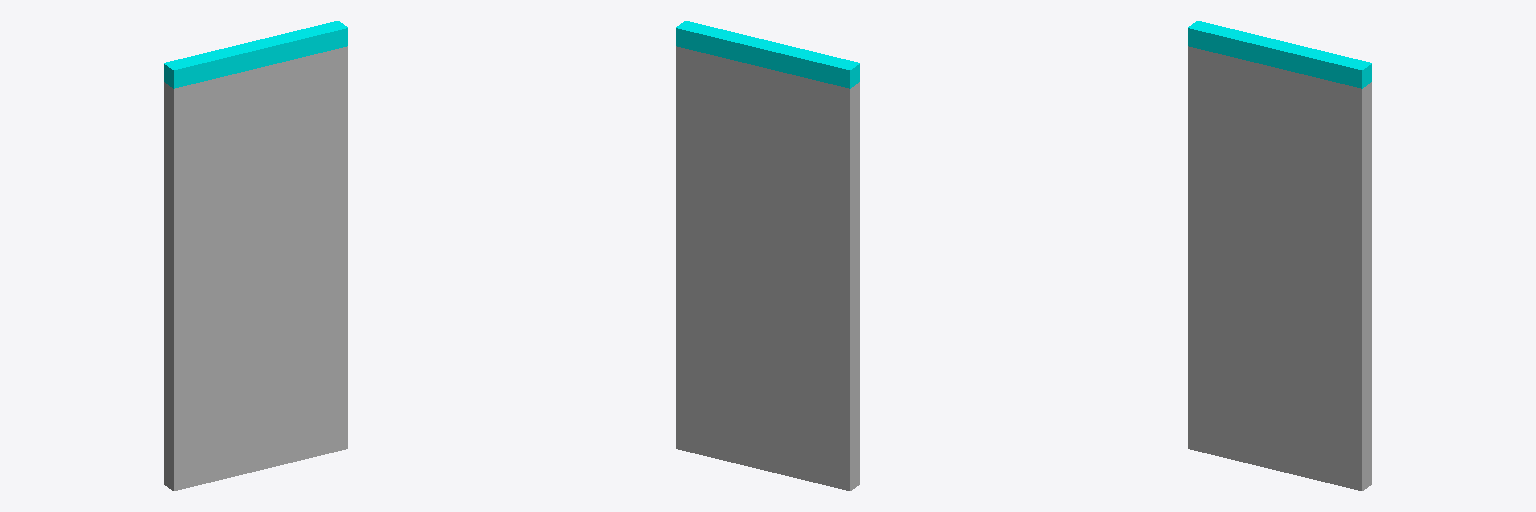
URDF robot description (spatula-base.urdf):
<?xml version="0.0" ?>
<robot name="spatula-base.urdf">
  <material name="DarkGrey">
    <color rgba="0.2 0.2 0.2 0.0"/>
  </material>
  <material name="LightGrey">
    <color rgba="0.8 0.8 0.8 0.0"/>
  </material>
  <material name="Blue">
    <color rgba="0.0 1.0 1.0 1.0"/>
  </material>

  <link name="baseLink">
    <contact>
      <lateral_friction value="1.0"/>
      <rolling_friction value="0.0001"/>
      <inertia_scaling value="3.0"/>
    </contact>
    <inertial>
      <origin rpy="0 0 0" xyz="0 0 0"/>
       <mass value=".1"/>
       <inertia ixx="1" ixy="0" ixz="0" iyy="1" iyz="0" izz="1"/>
    </inertial>
    <visual>
      <origin rpy="0 0 0" xyz="0 0 0"/>
      <geometry>
        <mesh filename="suction/base.obj" scale="0.001 0.001 0.001"/>
      </geometry>
      <material name="DarkGrey"/>
    </visual>
    <visual>
      <origin rpy="0 0 0" xyz="0 0 0.075"/>
      <geometry>
        <box size="0.05 0.005 0.11"/>
      </geometry>
      <material name="LightGrey"/>
    </visual>
    <collision>
      <origin rpy="0 0 0" xyz="0 0 0.075"/>
      <geometry>
        <box size="0.05 0.005 0.11"/>
      </geometry>
    </collision>
  </link>

  <link name="midLink">
    <contact>
      <lateral_friction value="1.0"/>
      <rolling_friction value="0.0001"/>
      <inertia_scaling value="3.0"/>
    </contact>
    <inertial>
      <origin rpy="0 0 0" xyz="0 0 0"/>
       <mass value=".1"/>
       <inertia ixx="1" ixy="0" ixz="0" iyy="1" iyz="0" izz="1"/>
    </inertial>
    <visual>
      <origin rpy="0 0 0" xyz="0 0 0.1075"/>
      <geometry>
        <box size="0.05 0.005 0.005"/>
      </geometry>
      <material name="Blue"/>
    </visual>
    <collision>
      <origin rpy="0 0 0" xyz="0 0 0.1075"/>
      <geometry>
        <box size="0.05 0.005 0.005"/>
      </geometry>
    </collision>
  </link>
  <joint name="baseLink-midLink" type="fixed">
    <origin rpy="0 0 0" xyz="0 0 0.025"/>
    <parent link="baseLink"/>
    <child link="midLink"/>
  </joint>


</robot>

--- Facts derived from the render (not from the file) ---
3 views of the same robot in one strip: view 1: azimuth 30°, elevation 25°; view 2: azimuth 150°, elevation 25°; view 3: azimuth 330°, elevation 25° (orthographic).
Robot: spatula-base.urdf — 2 links, 1 joints (1 fixed); root link baseLink; default pose: every joint at zero.
Links seen in each view (by area): view 1: baseLink, midLink; view 2: baseLink, midLink; view 3: baseLink, midLink.
Boxes of the visible links, x1,y1,x2,y2 form: baseLink: [164, 46, 347, 490]; midLink: [164, 21, 347, 88]; baseLink: [676, 46, 859, 490]; midLink: [676, 21, 859, 88]; baseLink: [1188, 46, 1371, 490]; midLink: [1188, 21, 1371, 88].
Size in the robot's own frame: 0.05 by 0.005 by 0.115 metres.
Meshes: 1 distinct files referenced, 0 mesh visuals loaded (none loaded); not drawn: 1 (reference not matched to a file when rendering).